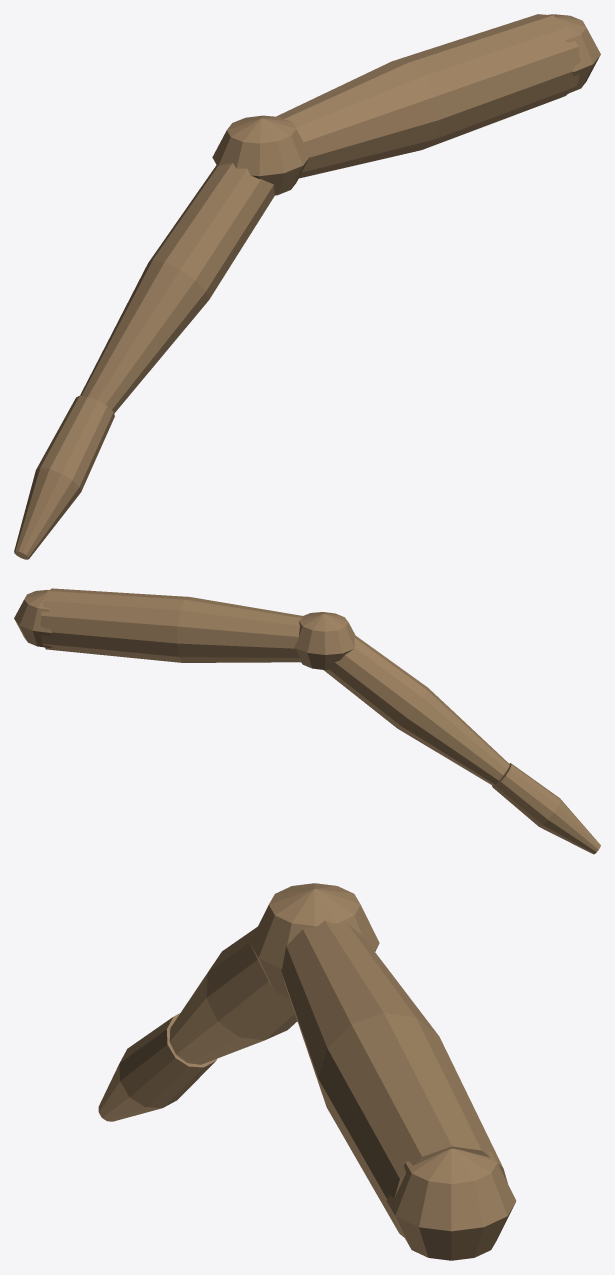
File: scorpion_leg_l3_original_01.glb
The picture shows the model from 3 angles, top to bottom: view 1: azimuth 30°, elevation 25°; view 2: azimuth 150°, elevation 25°; view 3: azimuth 270°, elevation 25°; orthographic projection. The views are drawn at different scales.
Parts seen in each view (by area): view 1: S0_LLeg3Segment1, S0_LLeg3Segment2, S0_LLeg3Segment3, S0_LLeg3Joint1, S0_LLeg3Joint0; view 2: S0_LLeg3Segment1, S0_LLeg3Segment2, S0_LLeg3Segment3, S0_LLeg3Joint1, S0_LLeg3Joint0; view 3: S0_LLeg3Segment1, S0_LLeg3Joint0, S0_LLeg3Segment2, S0_LLeg3Joint1, S0_LLeg3Segment3.
Part boxes in pixels (left/top/right/bottom): S0_LLeg3Segment1: left=276, top=14, right=580, bottom=178; S0_LLeg3Segment2: left=80, top=163, right=274, bottom=413; S0_LLeg3Segment3: left=14, top=395, right=114, bottom=559; S0_LLeg3Joint1: left=212, top=115, right=310, bottom=195; S0_LLeg3Joint0: left=548, top=14, right=600, bottom=94; S0_LLeg3Segment1: left=40, top=588, right=302, bottom=662; S0_LLeg3Segment2: left=324, top=636, right=509, bottom=785; S0_LLeg3Segment3: left=492, top=763, right=600, bottom=854; S0_LLeg3Joint1: left=294, top=612, right=356, bottom=669; S0_LLeg3Joint0: left=14, top=590, right=52, bottom=647; S0_LLeg3Segment1: left=281, top=920, right=507, bottom=1237; S0_LLeg3Joint0: left=386, top=1148, right=516, bottom=1260; S0_LLeg3Segment2: left=169, top=927, right=297, bottom=1064; S0_LLeg3Joint1: left=250, top=883, right=379, bottom=998; S0_LLeg3Segment3: left=98, top=1013, right=216, bottom=1121.
Size of the model in its own units: 0.672 by 0.2884 by 0.2444.
